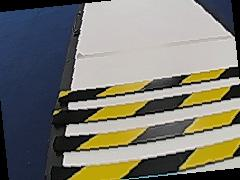bump: (56, 63, 238, 169)
